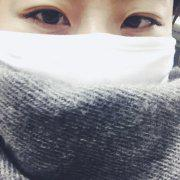OK: (7, 2, 173, 149)
